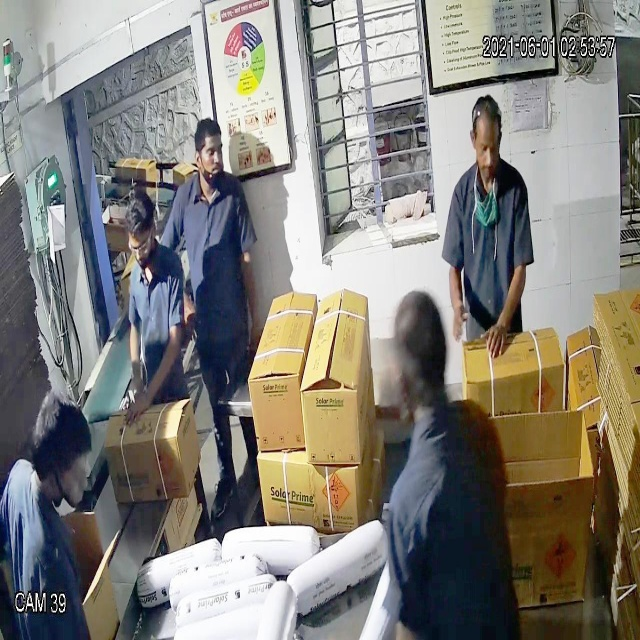Gafas: (124, 226, 157, 262)
Sin_gafas: (468, 130, 508, 164)
